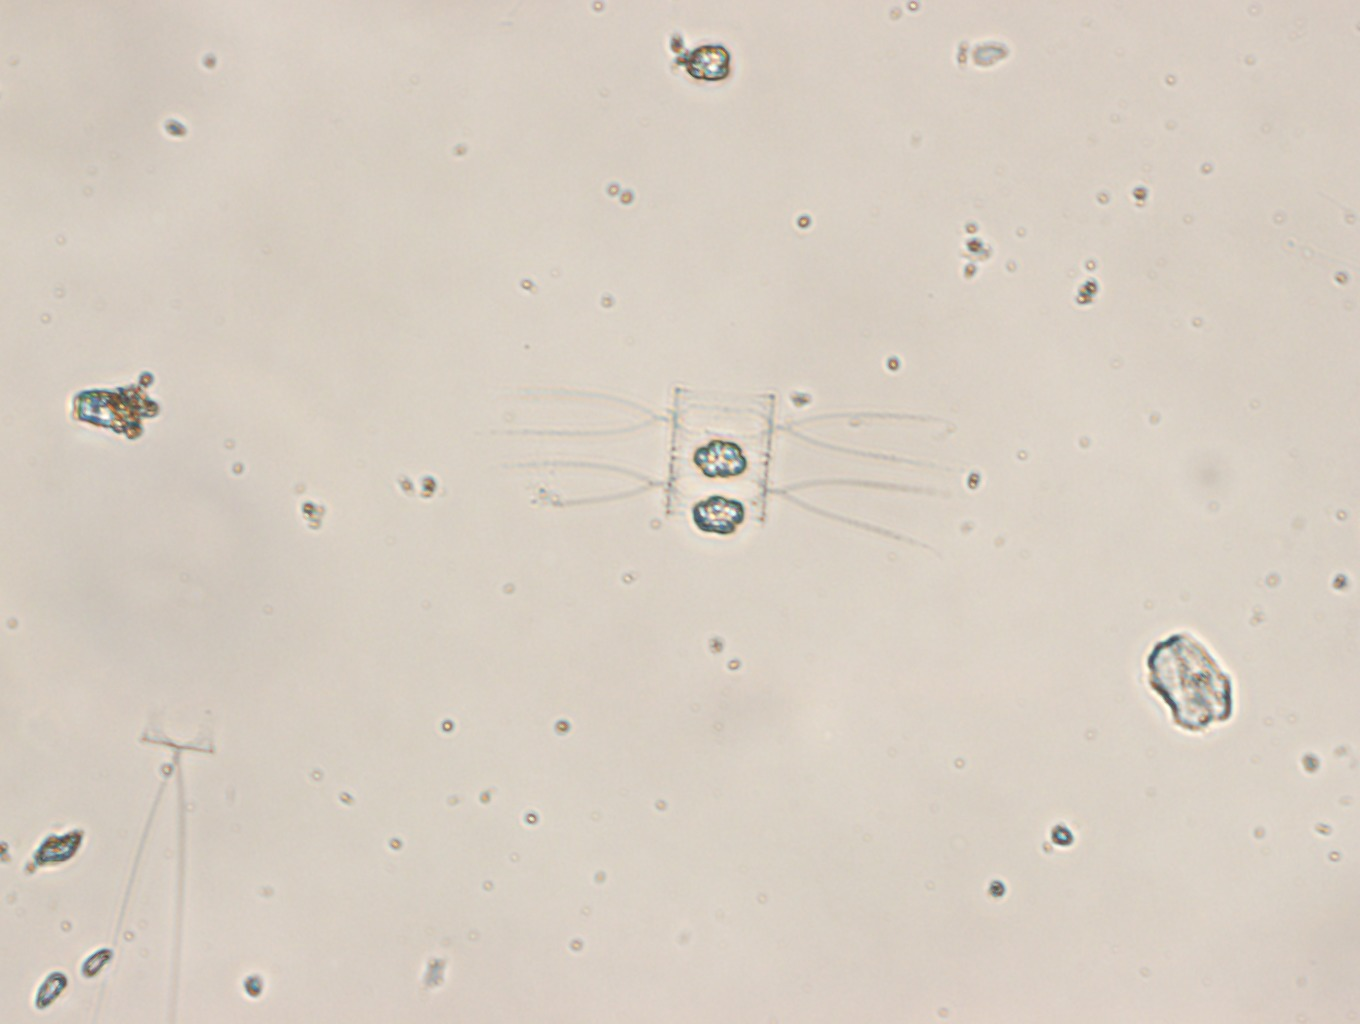chaetoceros: (504, 386, 953, 567)
